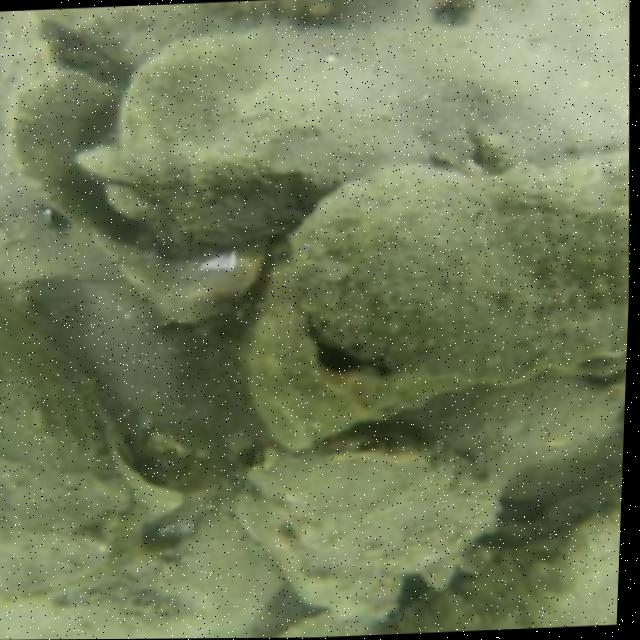Oyster-Indeterminate: (74, 21, 429, 254), (283, 163, 614, 383), (6, 66, 271, 329), (239, 441, 496, 607), (0, 294, 129, 590), (46, 509, 278, 639)
